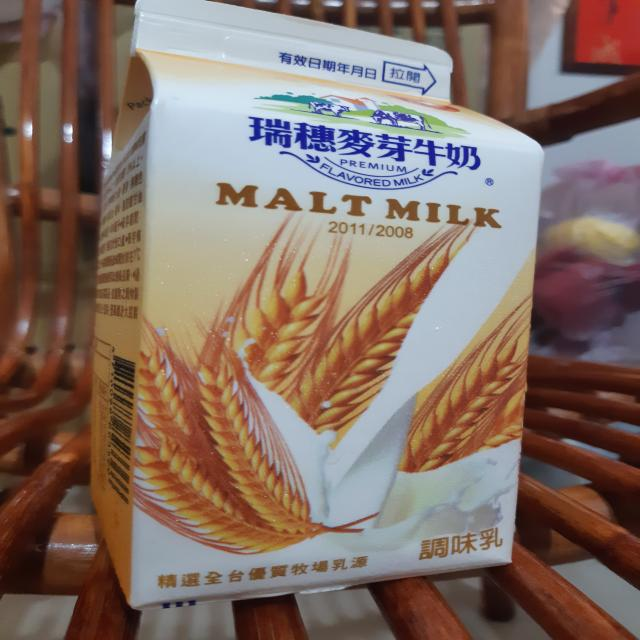RuiSui_MaltedMilk: (74, 0, 550, 608)
